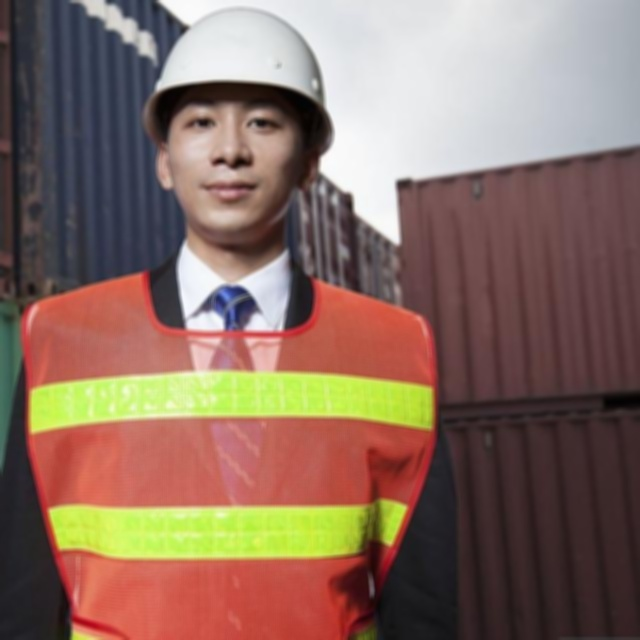Con_Casco: (138, 9, 337, 247)
Con_Chaleco: (28, 268, 441, 640)
